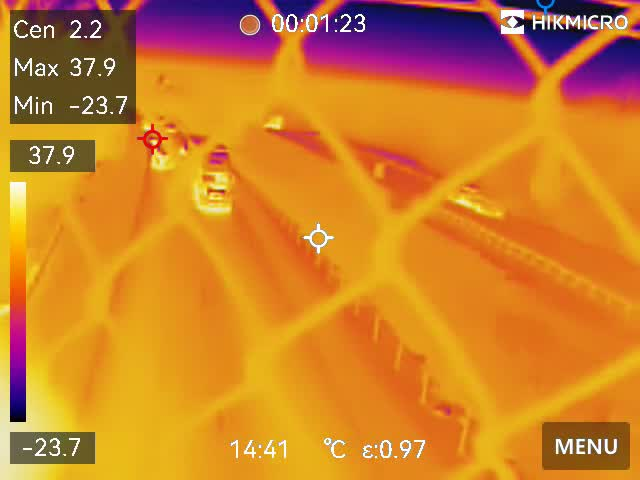vehicle: (445, 177, 507, 217), (190, 161, 232, 217)
